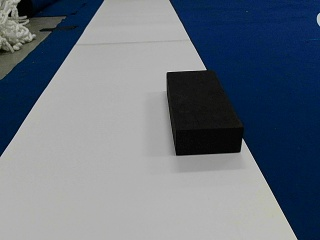block: (168, 69, 242, 155)
